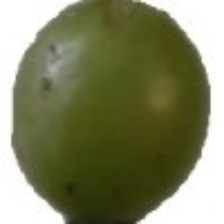grapes: (0, 26, 189, 186)
